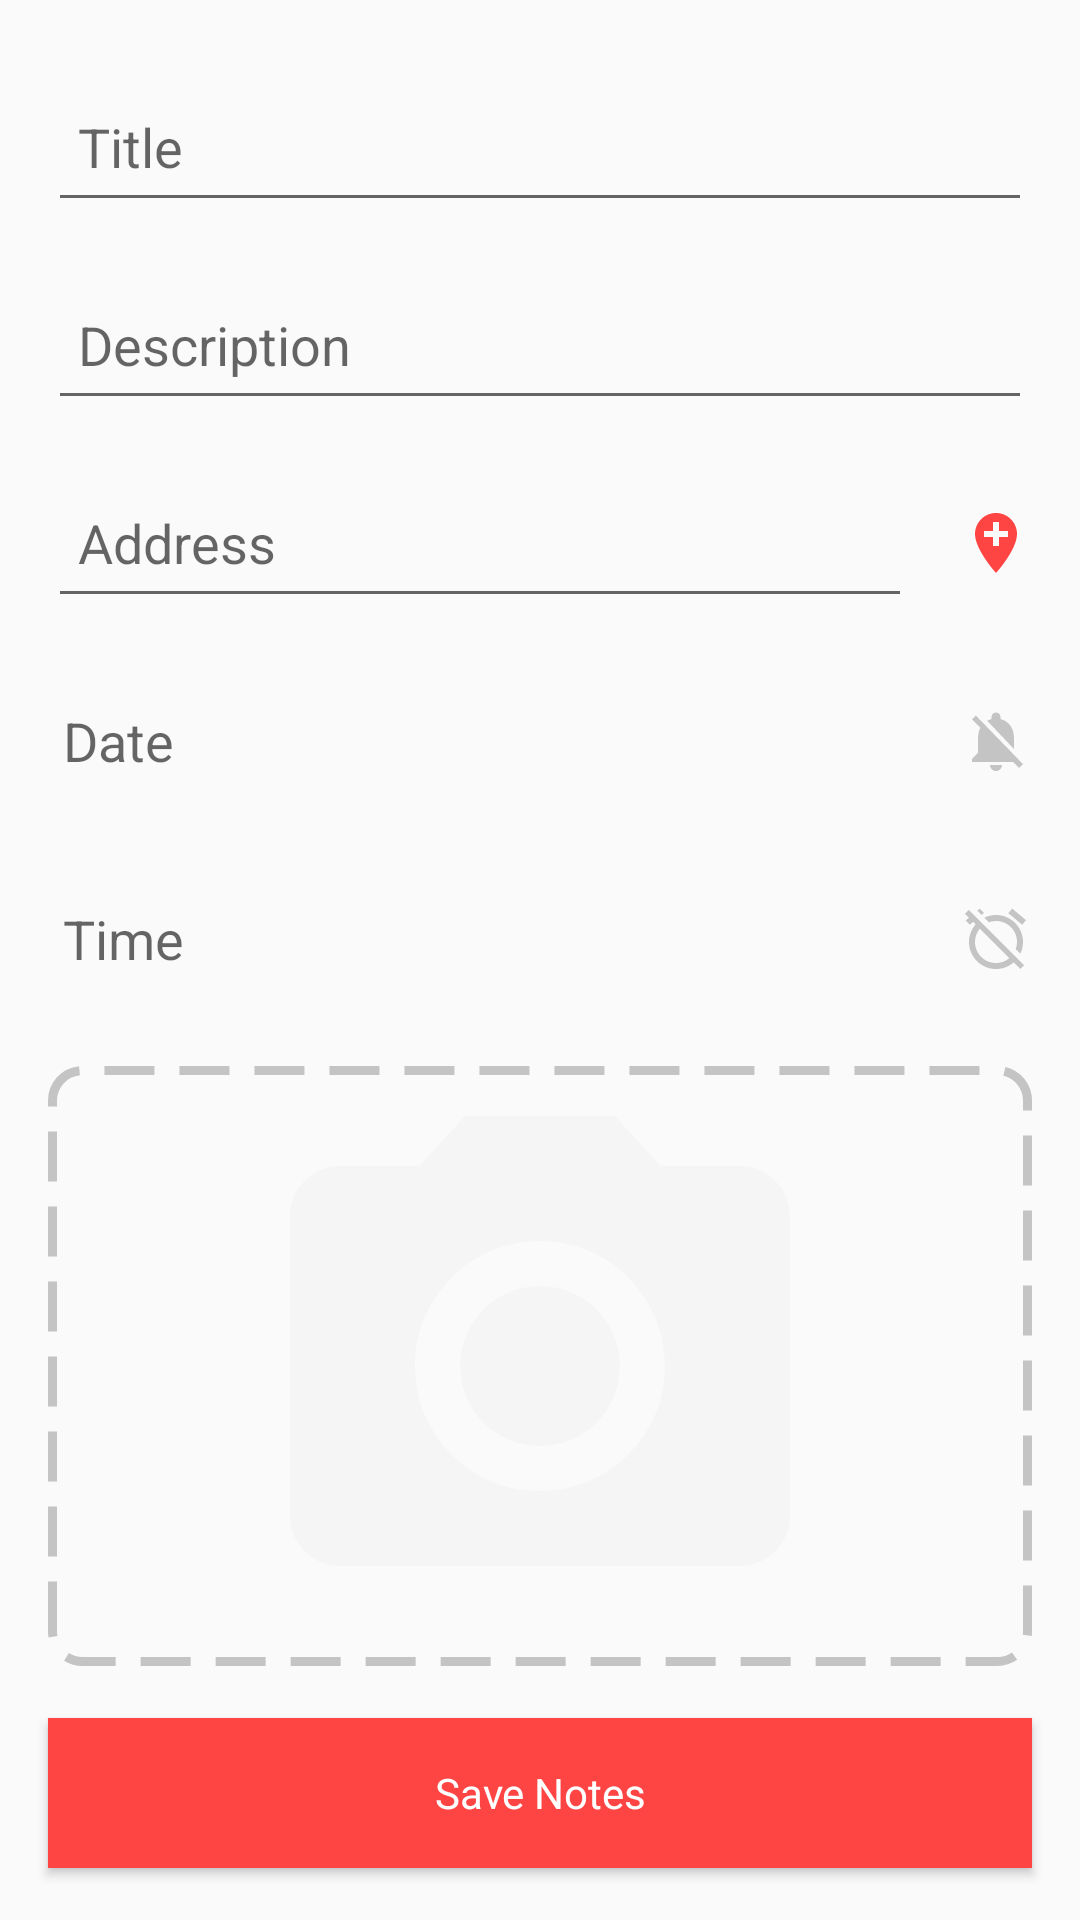

Locate icon controls on the screen. Image size 1080×1920, boxes as bbox(x1, y1, x2, y2).
activate Alarm: bbox(965, 909, 1026, 969)
Activate Alert: bbox(972, 713, 1023, 771)
add location: bbox(975, 513, 1017, 573)
